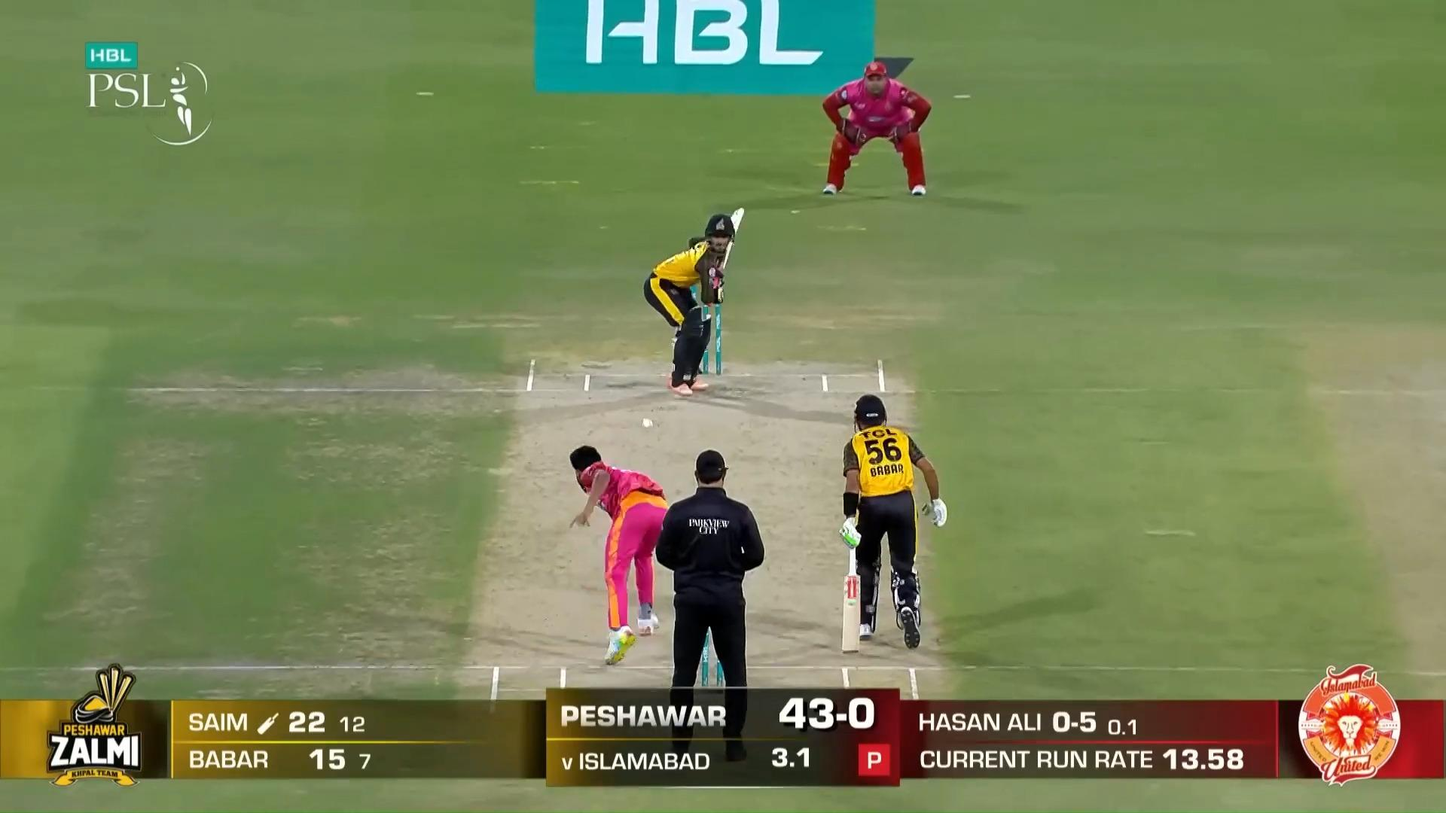batsman: (643, 208, 745, 397)
